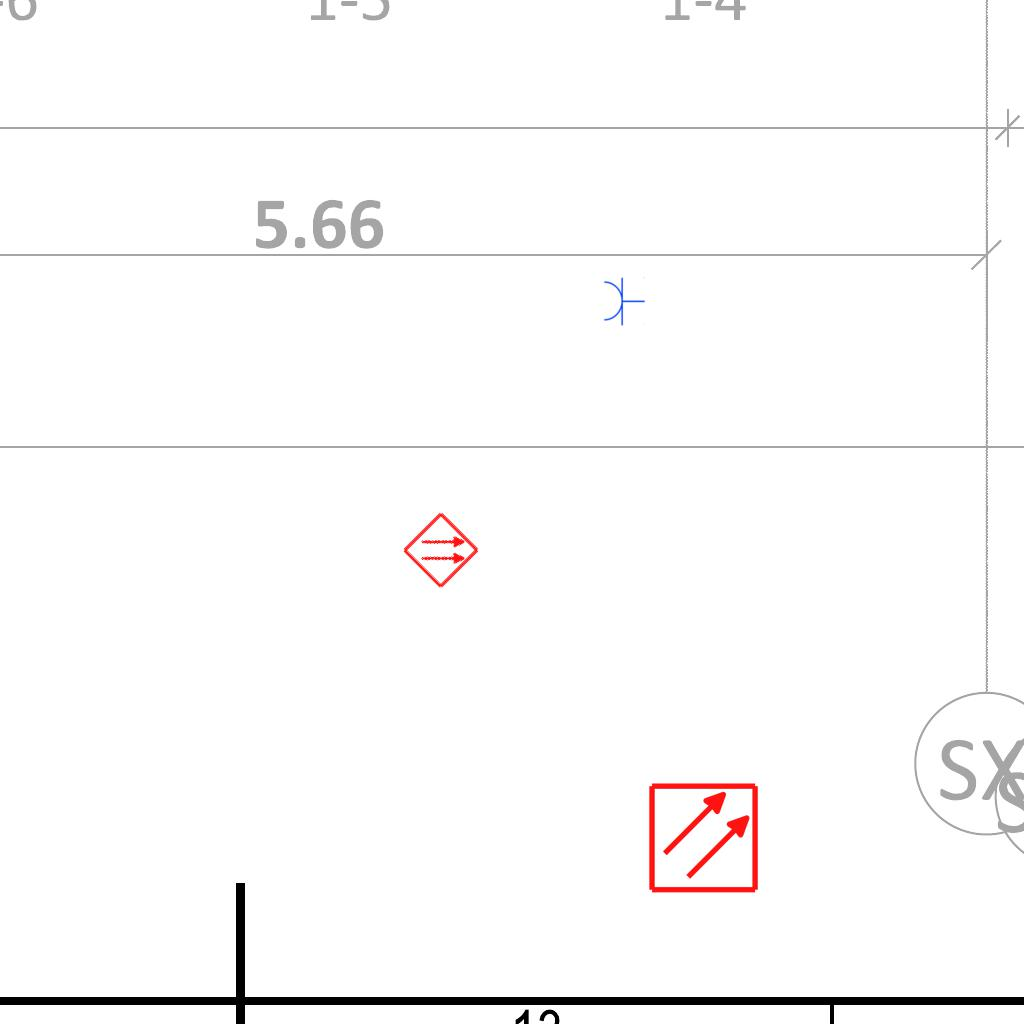RMO_Rauchmelder_optischer: (647, 781, 760, 894), (401, 510, 481, 590)
Schukosteckdose_einfach: (602, 276, 645, 326)
